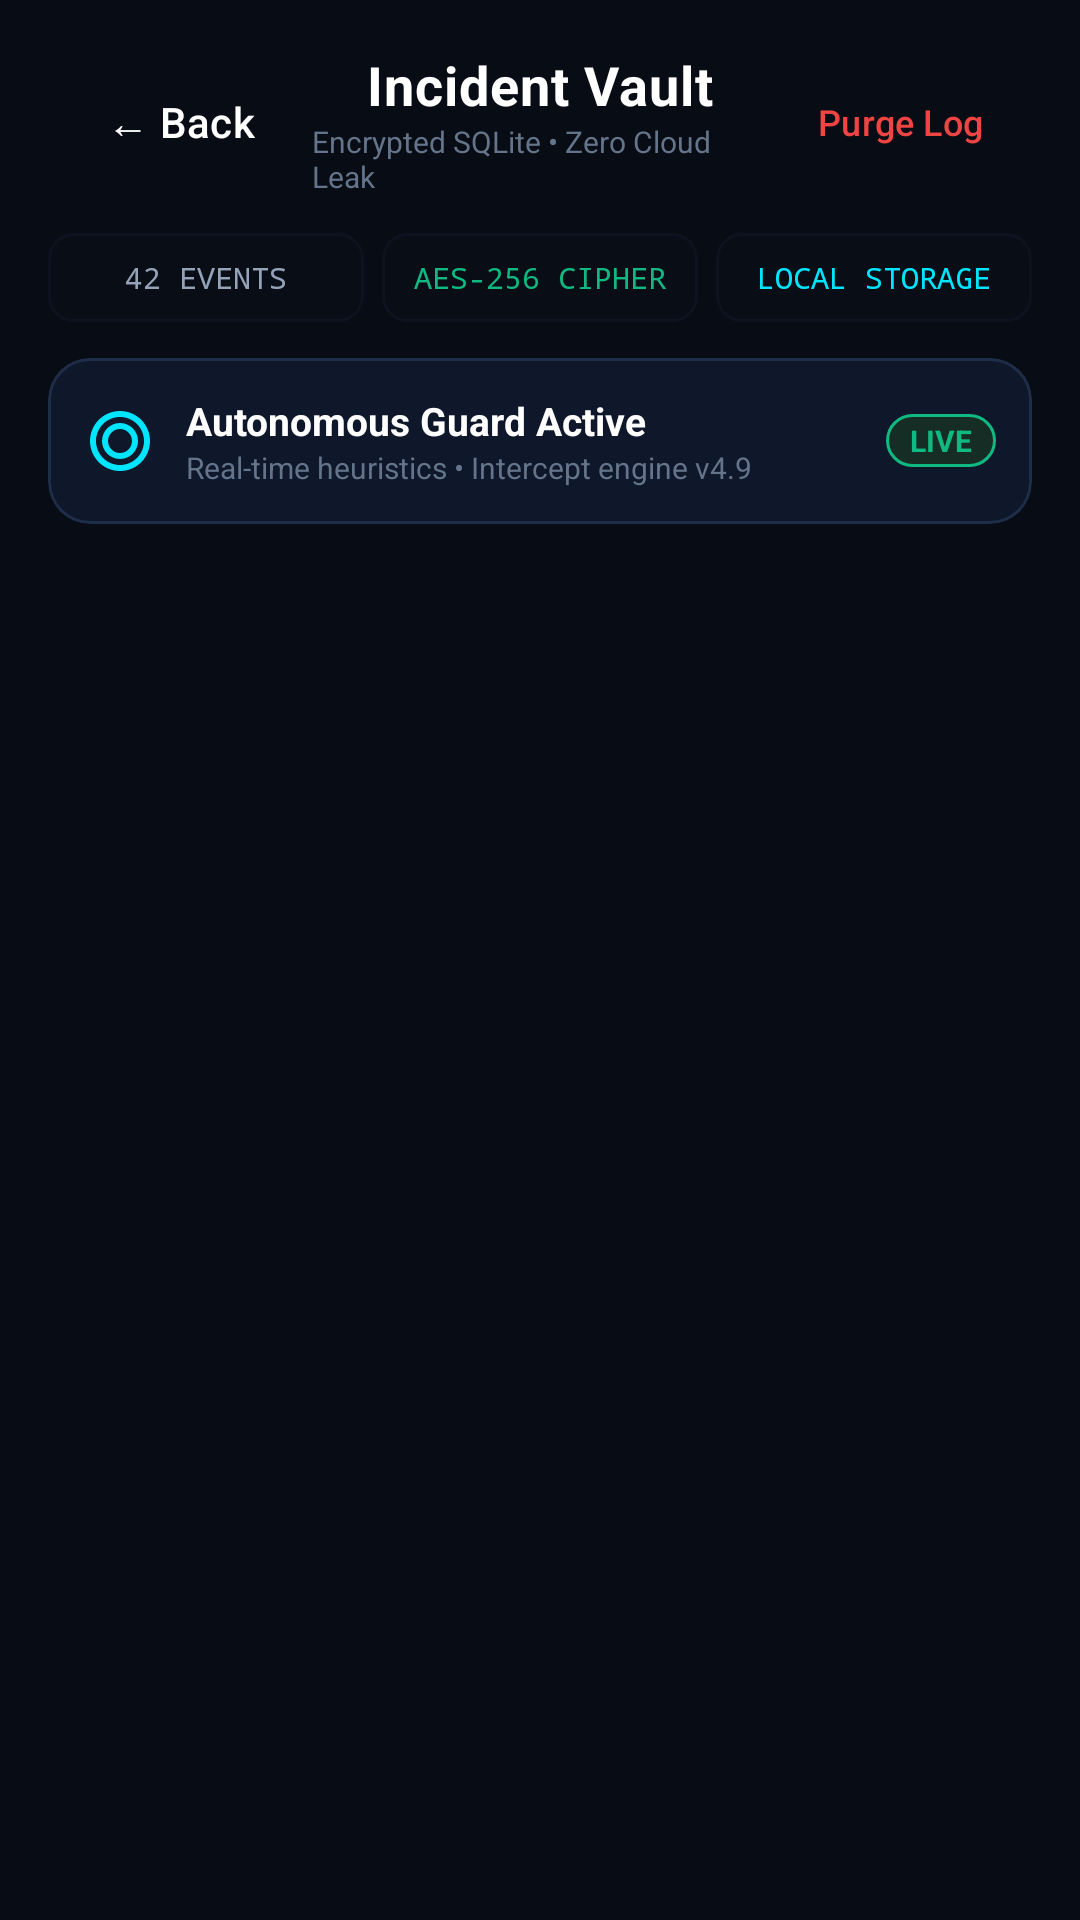

Screen size 1080w x 1920h. Icon name, then its box in pixels as (x1, y1, x2, y2):
guardian radar: (90, 411, 150, 471)
